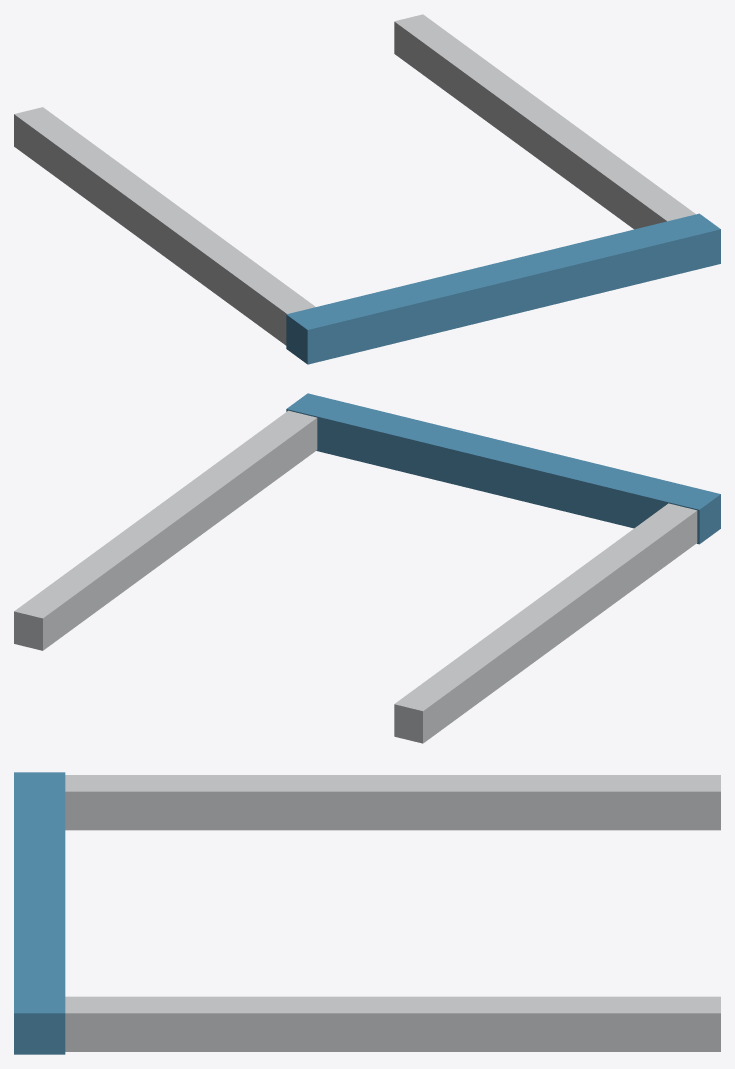
The model's file is door_frame.glb.
3 renders of one model, top to bottom at view 1: azimuth 30°, elevation 25°; view 2: azimuth 150°, elevation 25°; view 3: azimuth 270°, elevation 25°, orthographic. The views are drawn at different scales.
Visible parts, largest first — view 1: world; view 2: world; view 3: world.
Boxes of the visible parts, left/top/right/bottom form: world: left=14, top=14, right=720, bottom=364; world: left=14, top=393, right=720, bottom=743; world: left=14, top=772, right=720, bottom=1054.
Size of the model in its own units: 2 by 0.16 by 2.48.
